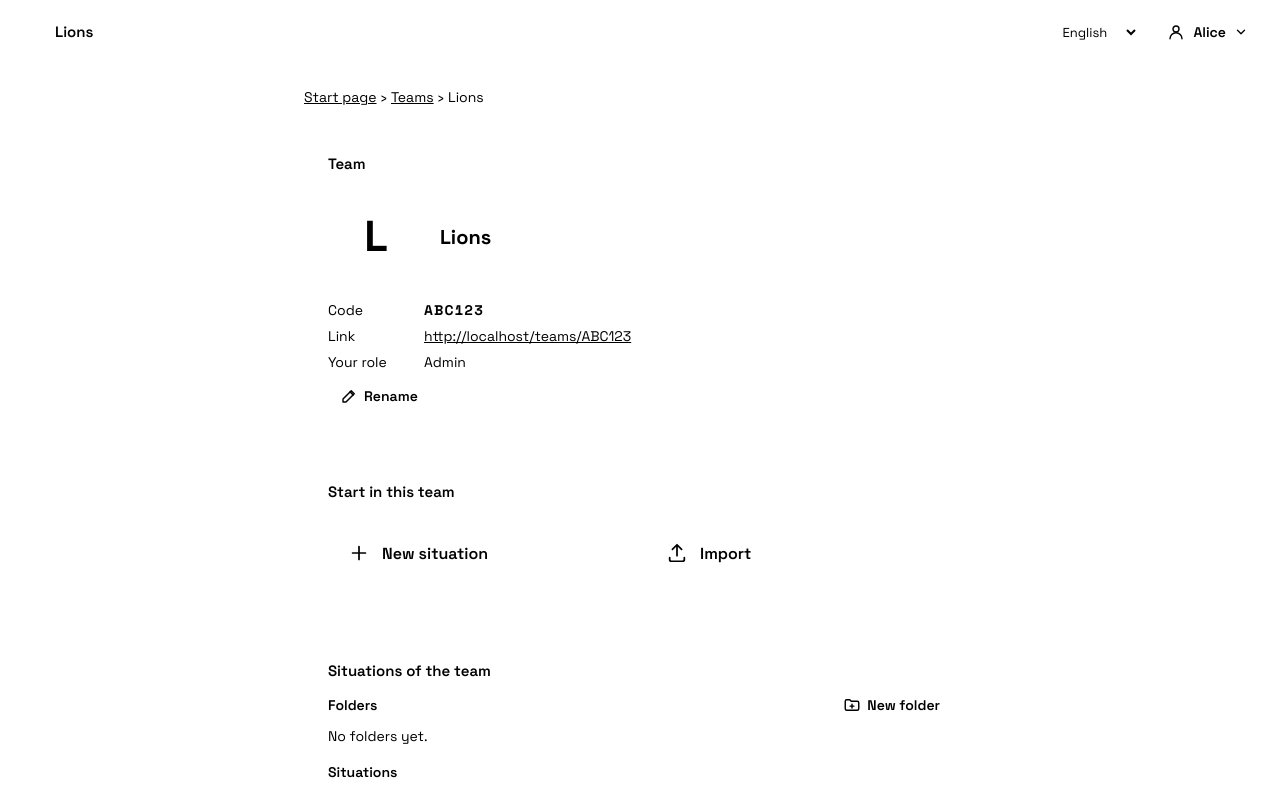
Test case: team page › lets an Admin rename the team
Step 1. Click the button "Rename" → (379, 396), box [328,387,430,405]
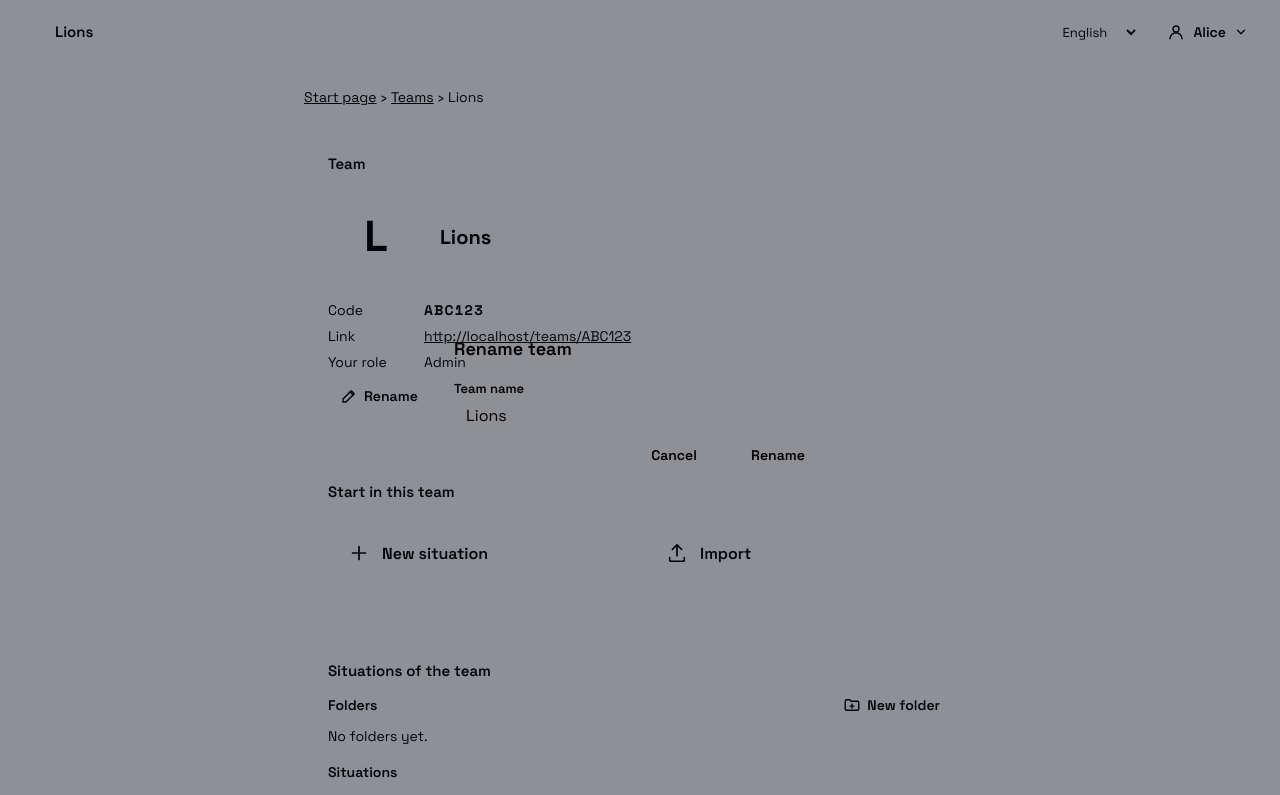
Step 2. Replace the text in the field labelled "Team name" with "Tigers" → (640, 415), box [454,404,826,426]
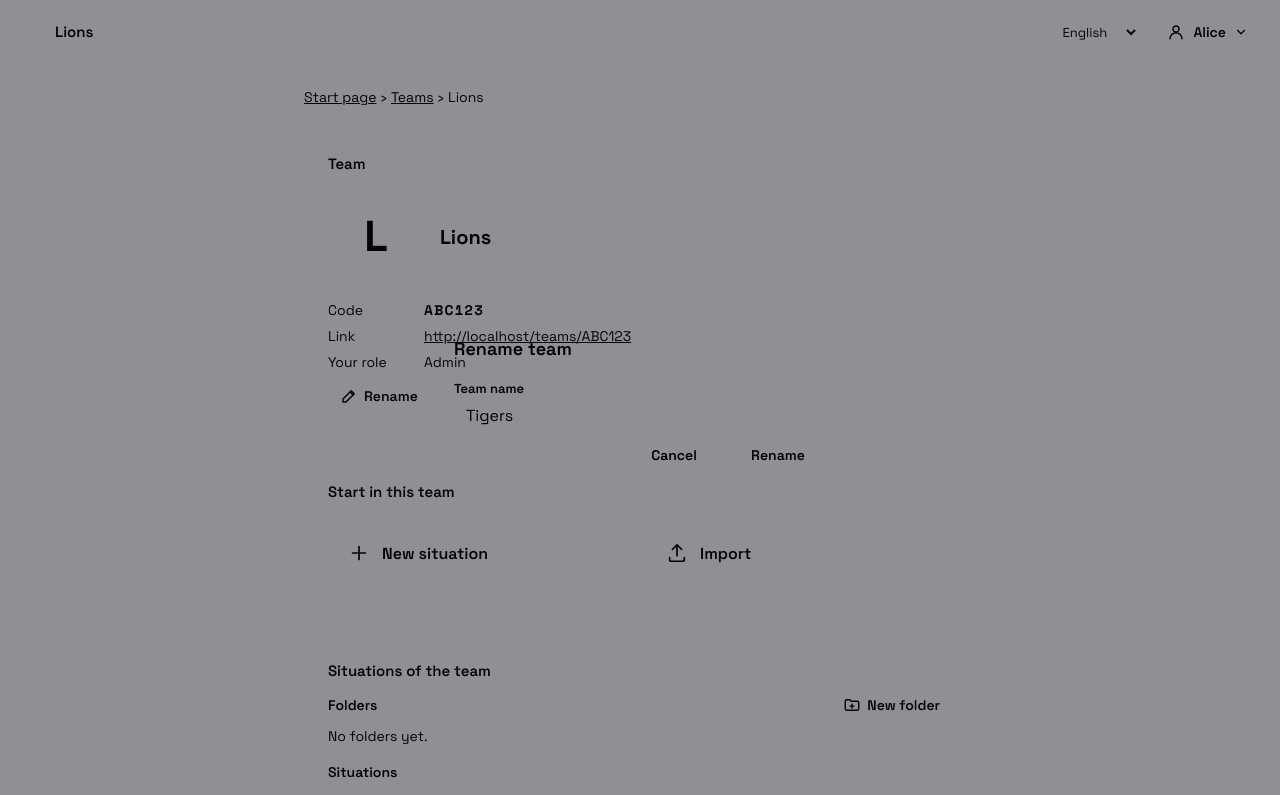
Step 3. Click the button "Rename" → (778, 454), box [730,446,826,464]
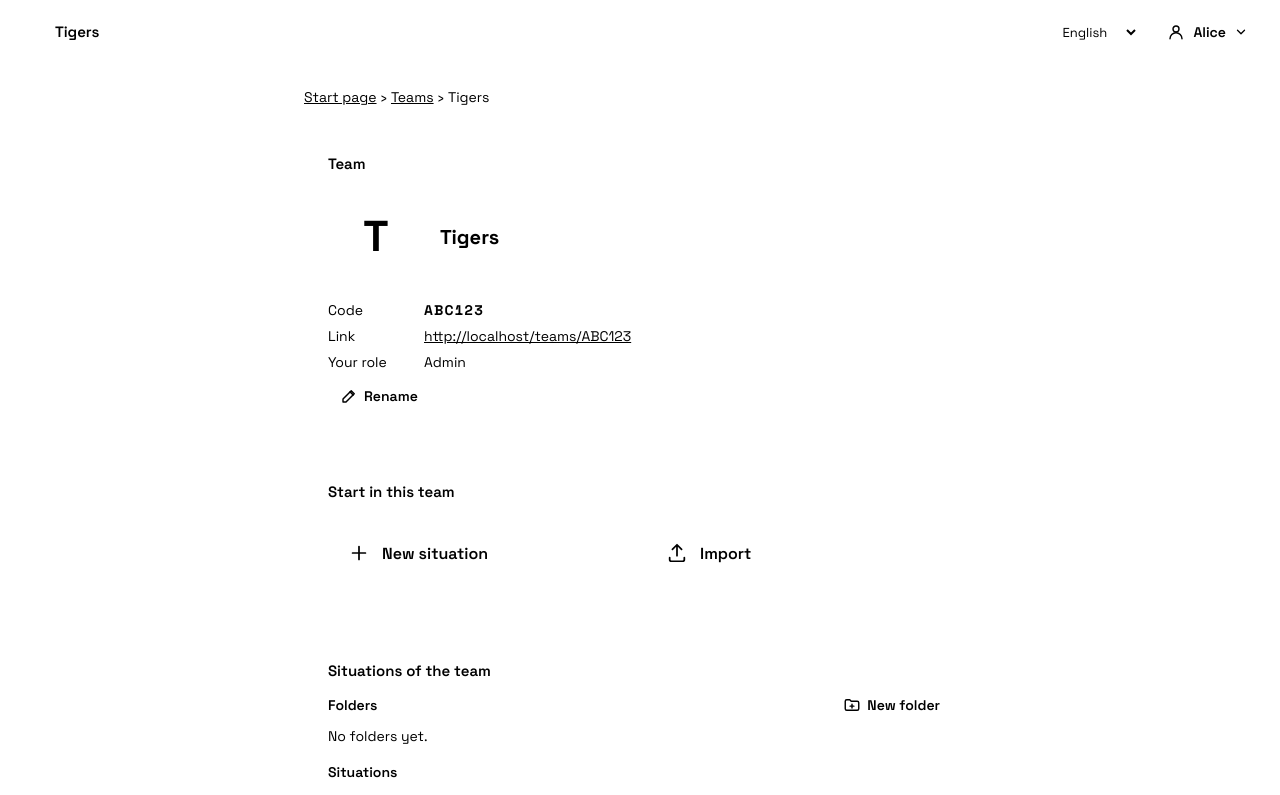
Expected: the heading "Tigers" is shown, [55,22,99,41]
